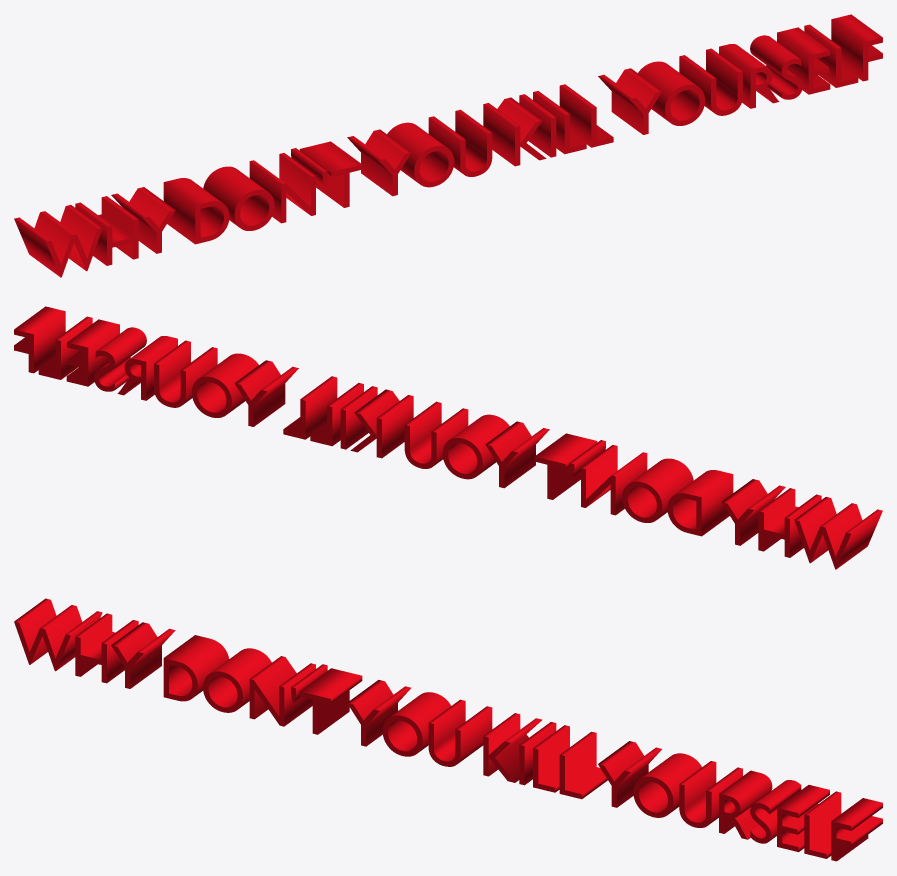
File: Wrath3.fbx
3 renders of one model, top to bottom at view 1: azimuth 30°, elevation 25°; view 2: azimuth 150°, elevation 25°; view 3: azimuth 330°, elevation 25°, orthographic.
Parts seen in each view (by area): view 1: Text; view 2: Text; view 3: Text.
Boxes of the visible parts, <box> form: Text: <box>14,14,882,277</box>; Text: <box>14,306,882,569</box>; Text: <box>14,598,882,861</box>.
Size of the model in its own units: 1528 by 72.5 by 100.
